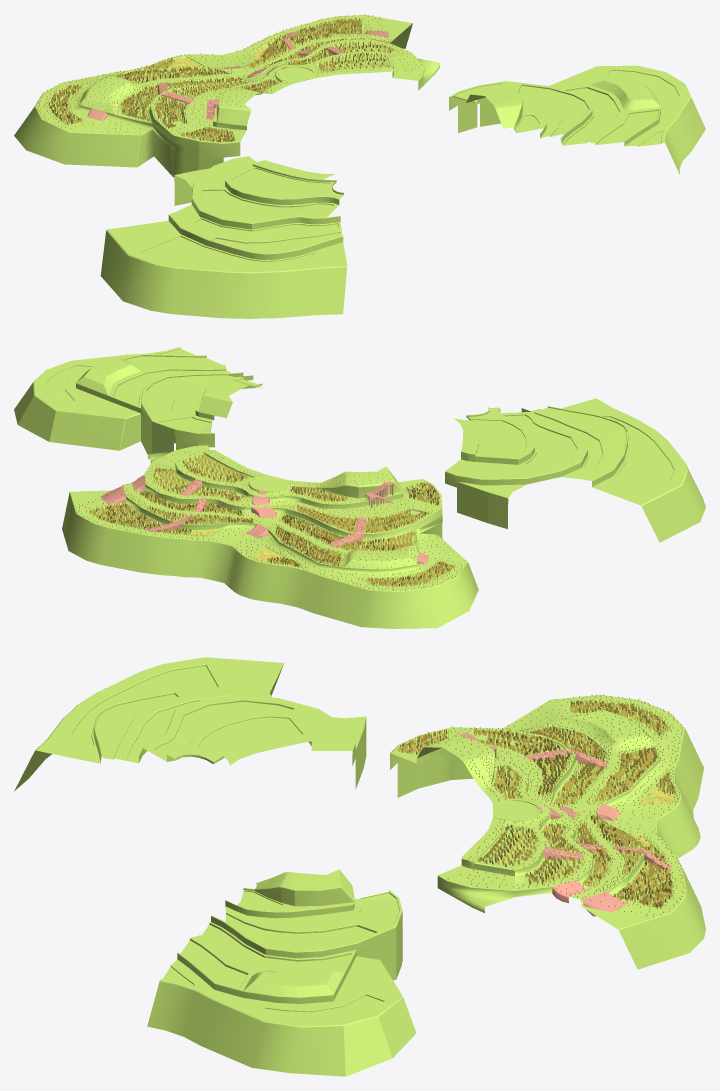
File: riziereFinale.fbx
3 views of the same model, one above another, from view 1: azimuth 30°, elevation 25°; view 2: azimuth 150°, elevation 25°; view 3: azimuth 270°, elevation 25° (orthographic). The views are drawn at different scales.
Parts seen in each view (by area): view 1: riziere_la1, riziere_la, riziere_la2, riz_caillou_herbe, Eau, RIZIERE_chemins; view 2: riziere_la, riziere_la1, riziere_la2, riz_caillou_herbe, Eau, RIZIERE_chemins; view 3: riziere_la2, riziere_la, riziere_la1, riz_caillou_herbe, Eau, RIZIERE_chemins.
Part boxes in pixels (x1=…): riziere_la1: x1=100, y1=156, x2=347, y2=318; riziere_la: x1=14, y1=15, x2=439, y2=177; riziere_la2: x1=449, y1=65, x2=705, y2=174; riz_caillou_herbe: x1=35, y1=14, x2=421, y2=142; Eau: x1=47, y1=20, x2=395, y2=142; RIZIERE_chemins: x1=87, y1=30, x2=390, y2=120; riziere_la: x1=62, y1=445, x2=478, y2=628; riziere_la1: x1=445, y1=398, x2=705, y2=542; riziere_la2: x1=14, y1=347, x2=262, y2=454; riz_caillou_herbe: x1=75, y1=445, x2=465, y2=590; Eau: x1=88, y1=456, x2=453, y2=586; RIZIERE_chemins: x1=100, y1=475, x2=428, y2=563; riziere_la2: x1=147, y1=869, x2=416, y2=1076; riziere_la: x1=390, y1=695, x2=705, y2=969; riziere_la1: x1=14, y1=657, x2=366, y2=791; riz_caillou_herbe: x1=397, y1=694, x2=685, y2=917; Eau: x1=396, y1=703, x2=676, y2=908; RIZIERE_chemins: x1=459, y1=733, x2=670, y2=916.
Size of the model in its own units: 390 by 42.33 by 296.
